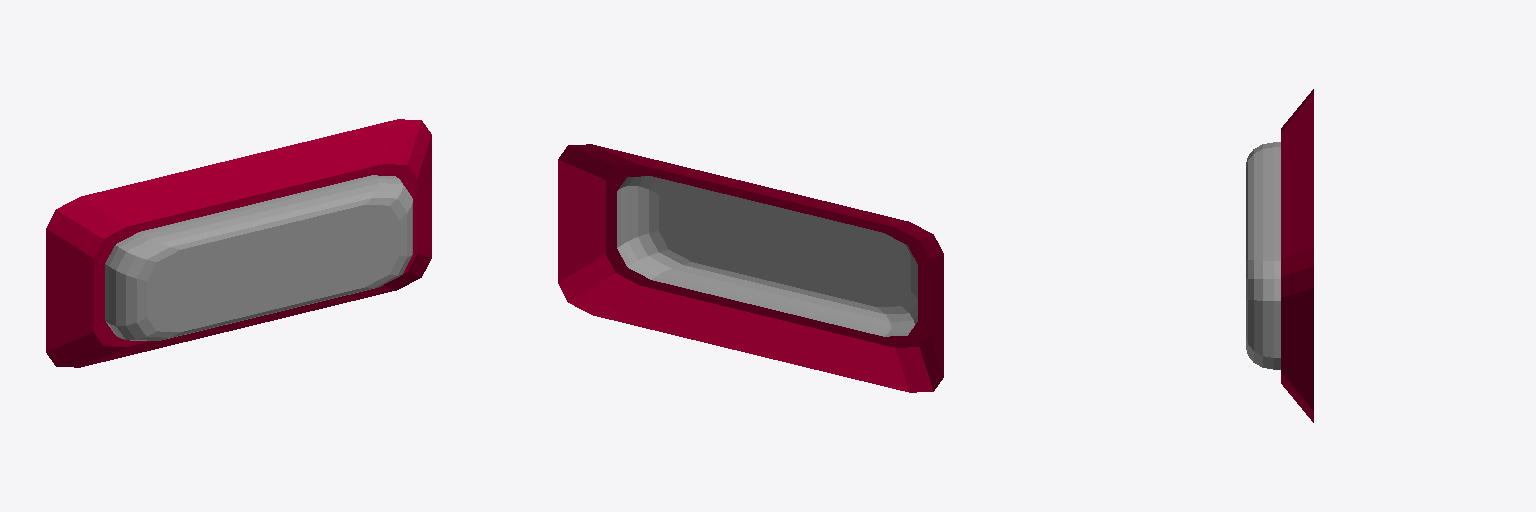
File: lamp_wall_01.obj
3 views of the same model, side by side, from view 1: azimuth 30°, elevation 25°; view 2: azimuth 150°, elevation 25°; view 3: azimuth 270°, elevation 25° (orthographic).
Parts seen in each view (by area): view 1: Plane_Plane.001; view 2: Plane_Plane.001; view 3: Plane_Plane.001.
Boxes of the visible parts, x1,y1,x2,y2 form: Plane_Plane.001: [46, 119, 431, 367]; Plane_Plane.001: [558, 144, 943, 392]; Plane_Plane.001: [1246, 89, 1313, 422].
Bounding box in the file's own units: 2 × 0.847 × 0.3071.